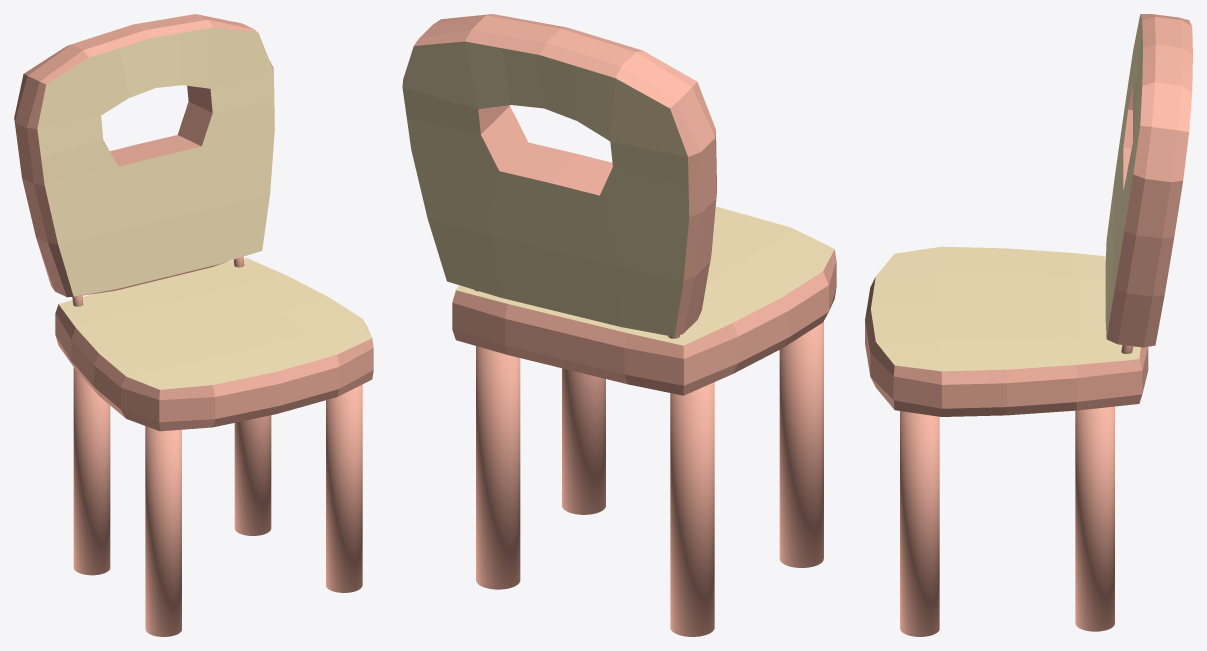
Rendered from Simple Chair.fbx.
3 renders of one model, left to right at view 1: azimuth 30°, elevation 25°; view 2: azimuth 150°, elevation 25°; view 3: azimuth 270°, elevation 25°, orthographic. The views are drawn at different scales.
Parts seen in each view (by area): view 1: Chair; view 2: Chair; view 3: Chair.
Boxes of the visible parts, x1,y1,x2,y2 form: Chair: [14, 14, 373, 636]; Chair: [402, 14, 836, 636]; Chair: [865, 14, 1192, 636].
Size of the model in its own units: 53.02 by 102 by 56.56.
